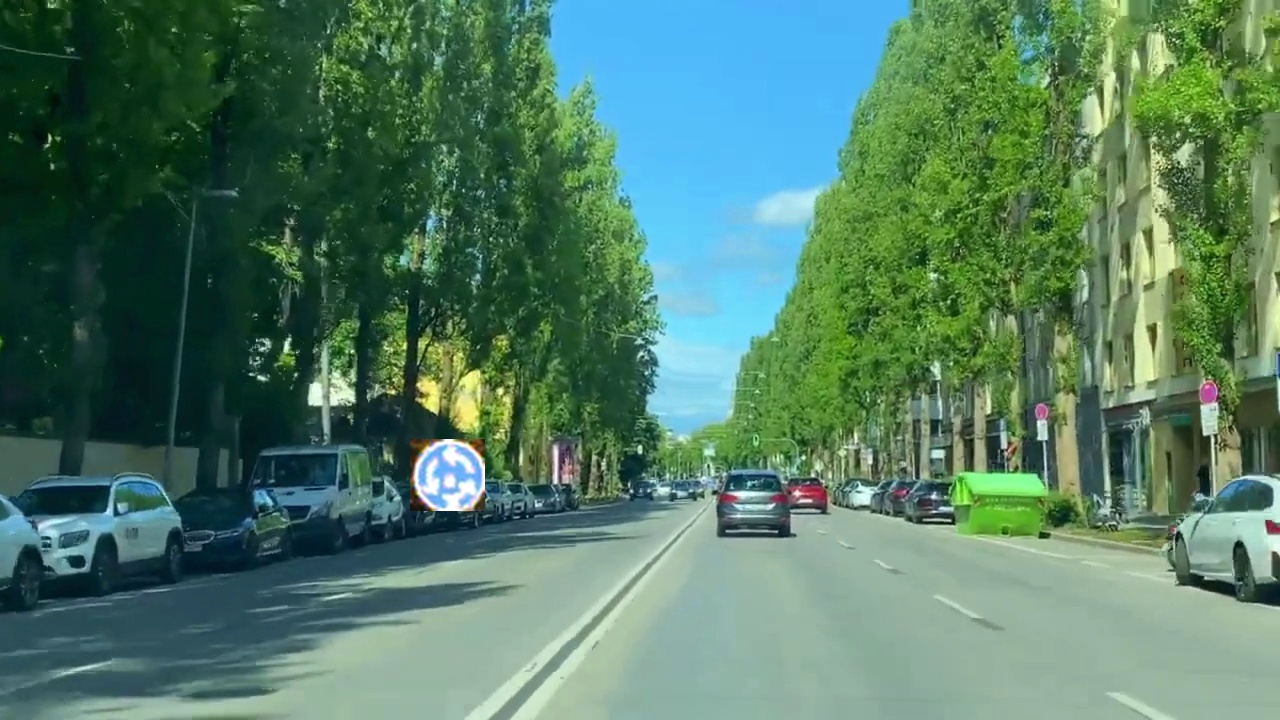Roundabout: (410, 439, 485, 511)
